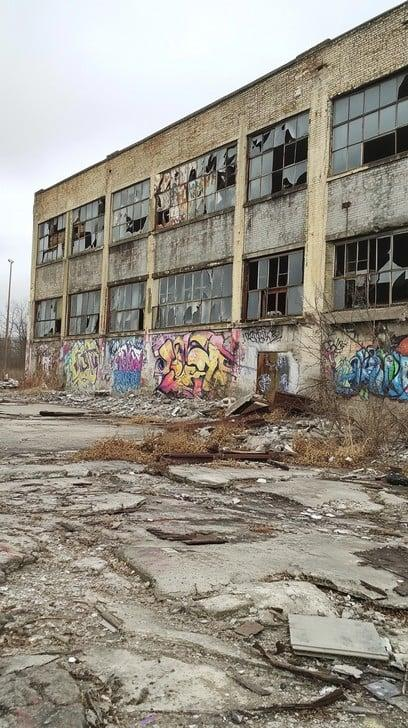graffiti: (157, 333, 231, 390), (329, 350, 408, 387), (62, 337, 103, 386), (109, 337, 138, 385), (229, 326, 293, 343)
